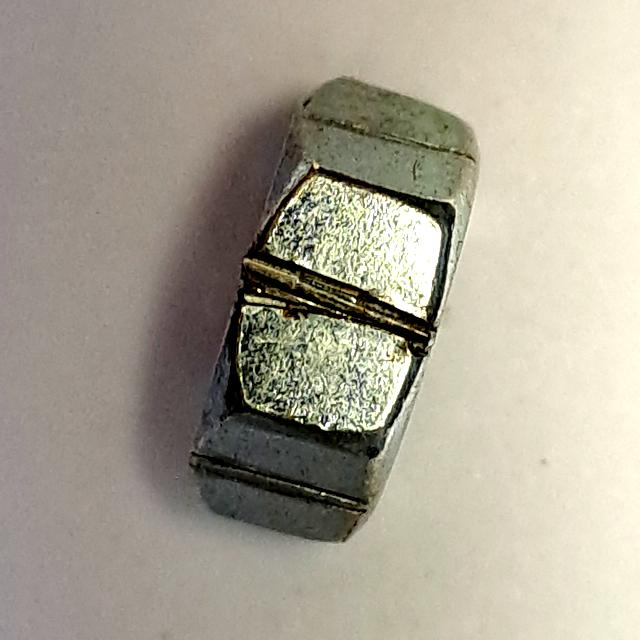Side_Scratches: (169, 62, 493, 562)
